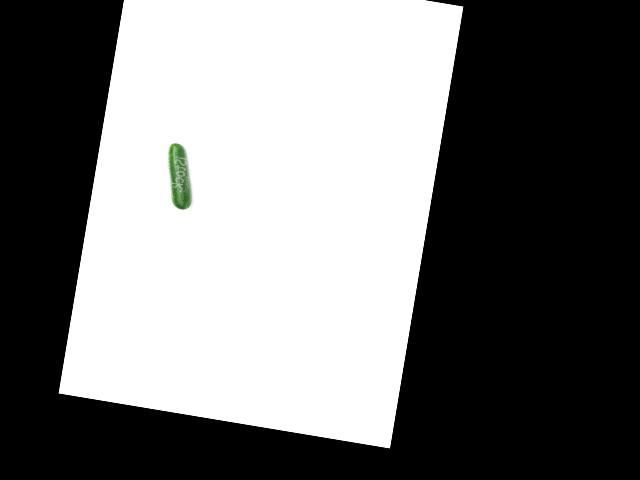cucumber: (159, 142, 200, 211)
